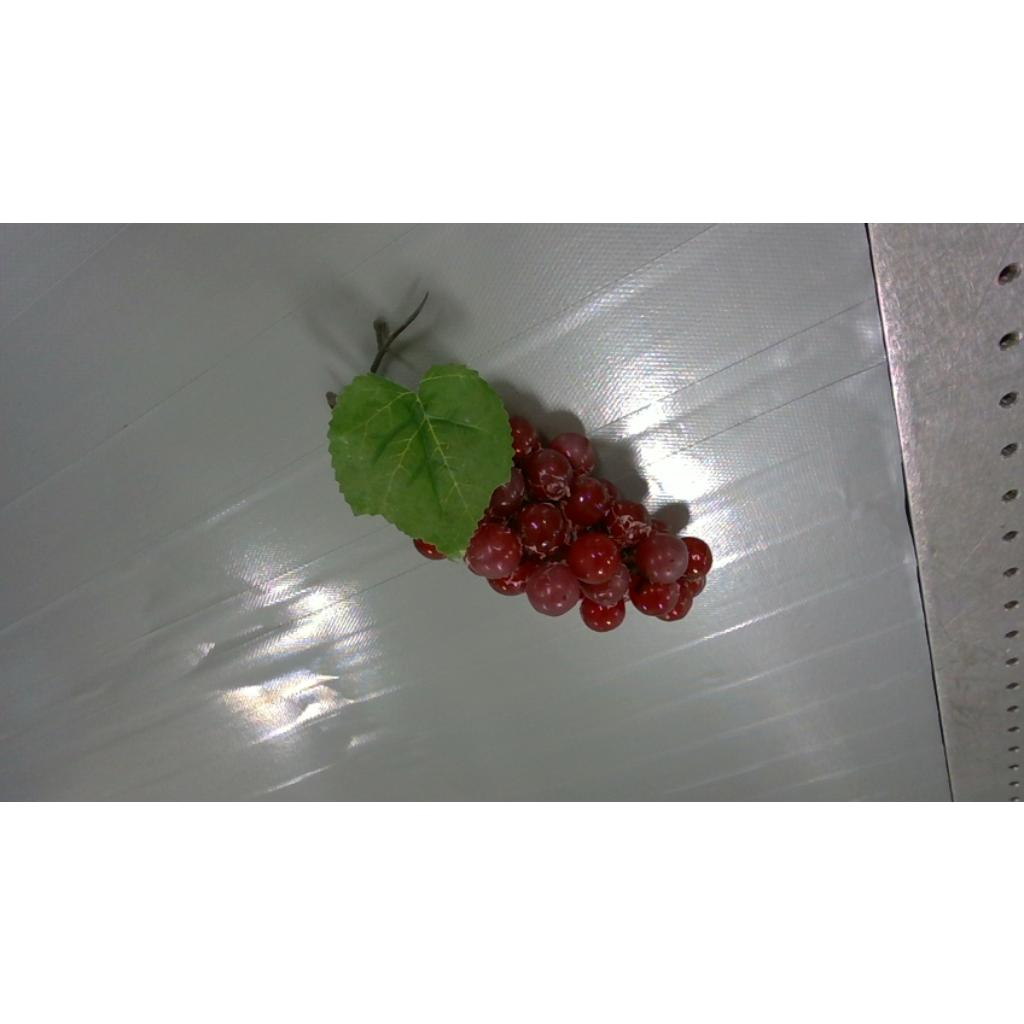grape: (328, 303, 712, 631)
